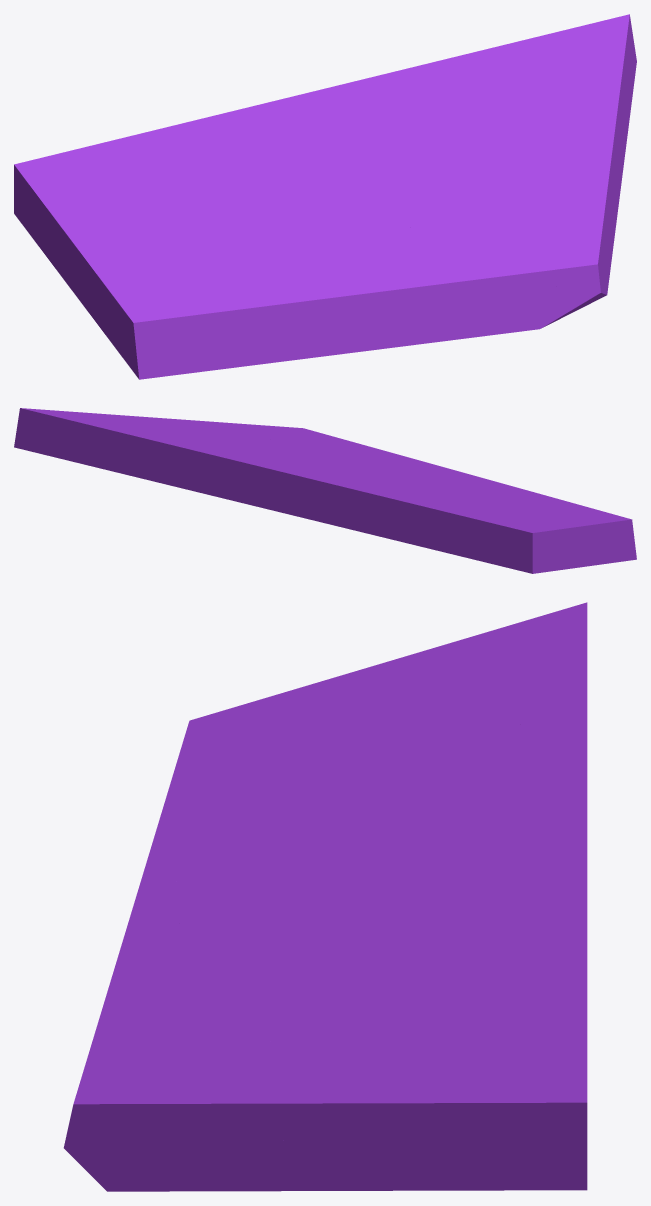
The model's file is Window_157_3_chunks.fbx.
3 views of the same model, one above another, from view 1: azimuth 30°, elevation 25°; view 2: azimuth 150°, elevation 25°; view 3: azimuth 270°, elevation 25° (orthographic). The views are drawn at different scales.
Parts seen in each view (by area): view 1: Window_157_3_4, Window_157_3_6, Window_157_3_8, Window_157_3_10, Window_157_3_17, Window_157_3_11, Window_157_3_5, Window_157_3_18, Window_157_3_15, Window_157_3_2, Window_157_3_13, Window_157_3_1 (+5 smaller); view 2: Window_157_3_4, Window_157_3_17, Window_157_3_7, Window_157_3_6, Window_157_3_0, Window_157_3_18, Window_157_3_8, Window_157_3_10, Window_157_3_5, Window_157_3_15, Window_157_3_16, Window_157_3_13 (+2 smaller); view 3: Window_157_3_4, Window_157_3_6, Window_157_3_17, Window_157_3_10, Window_157_3_8, Window_157_3_5, Window_157_3_18, Window_157_3_15, Window_157_3_16, Window_157_3_9, Window_157_3_13, Window_157_3_2 (+4 smaller).
Boxes of the visible parts, box(x1,y1,x2,y2) form: Window_157_3_4: box(14, 138, 243, 379); Window_157_3_6: box(180, 87, 397, 233); Window_157_3_8: box(362, 76, 504, 247); Window_157_3_10: box(466, 184, 613, 309); Window_157_3_17: box(478, 14, 636, 152); Window_157_3_11: box(171, 277, 375, 375); Window_157_3_5: box(209, 218, 399, 348); Window_157_3_18: box(377, 51, 506, 165); Window_157_3_15: box(483, 88, 617, 162); Window_157_3_2: box(410, 228, 581, 329); Window_157_3_13: box(353, 243, 458, 340); Window_157_3_1: box(359, 289, 536, 351); Window_157_3_4: box(443, 493, 636, 573); Window_157_3_17: box(14, 408, 167, 480); Window_157_3_7: box(290, 488, 465, 557); Window_157_3_6: box(269, 463, 472, 501); Window_157_3_0: box(176, 461, 327, 523); Window_157_3_18: box(146, 435, 266, 486); Window_157_3_8: box(226, 441, 373, 465); Window_157_3_10: box(213, 421, 360, 451); Window_157_3_5: box(370, 463, 564, 500); Window_157_3_15: box(135, 416, 260, 443); Window_157_3_16: box(174, 419, 275, 444); Window_157_3_13: box(384, 455, 472, 475); Window_157_3_4: box(166, 602, 587, 803); Window_157_3_6: box(274, 742, 587, 930); Window_157_3_17: box(362, 979, 587, 1190); Window_157_3_10: box(63, 991, 282, 1191); Window_157_3_8: box(178, 889, 587, 1017); Window_157_3_5: box(155, 797, 321, 933); Window_157_3_18: box(342, 897, 587, 1007); Window_157_3_15: box(308, 996, 494, 1124); Window_157_3_16: box(238, 994, 376, 1169); Window_157_3_9: box(208, 1130, 440, 1191); Window_157_3_13: box(108, 901, 210, 988); Window_157_3_2: box(89, 942, 247, 1052).
Size of the model in its own units: 1332 by 289 by 582.
